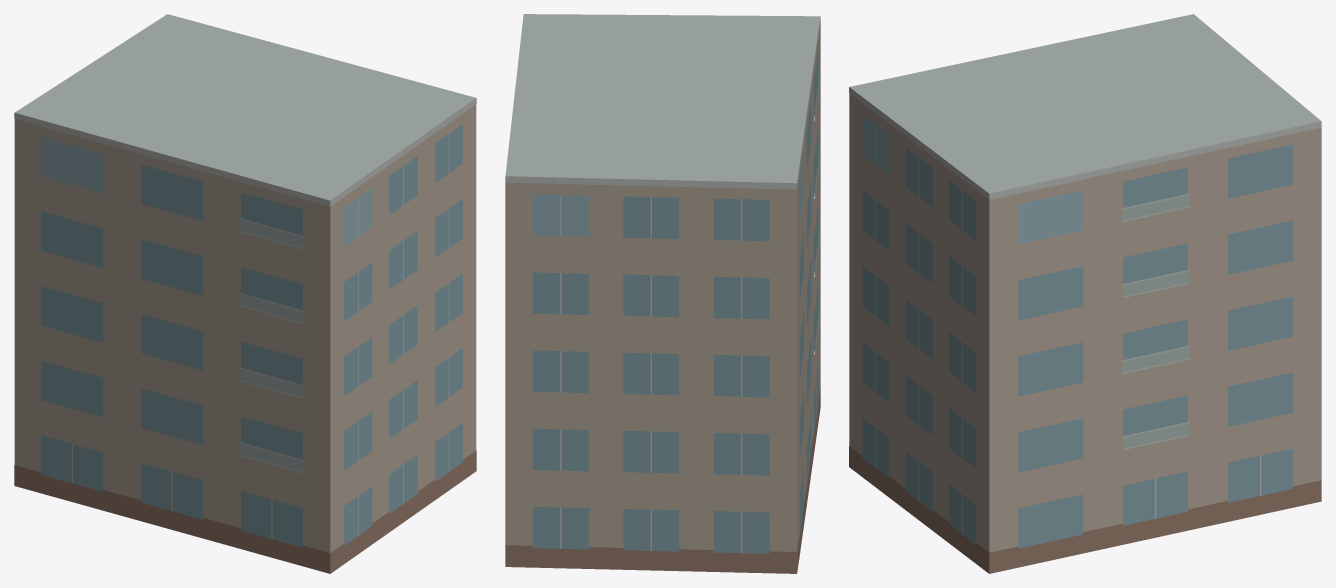
The model's file is survey-upis-32836744.glb.
3 views of the same model, side by side, from view 1: azimuth 30°, elevation 25°; view 2: azimuth 150°, elevation 25°; view 3: azimuth 270°, elevation 25° (orthographic). The views are drawn at different scales.
Parts seen in each view (by area): view 1: survey-upis-32836744.tmp; view 2: survey-upis-32836744.tmp; view 3: survey-upis-32836744.tmp.
Part boxes in pixels (<box>): survey-upis-32836744.tmp: <box>14,14,476,573</box>; survey-upis-32836744.tmp: <box>505,14,820,573</box>; survey-upis-32836744.tmp: <box>849,14,1321,573</box>.
Size of the model in its own units: 15.01 by 14.8 by 16.68.
